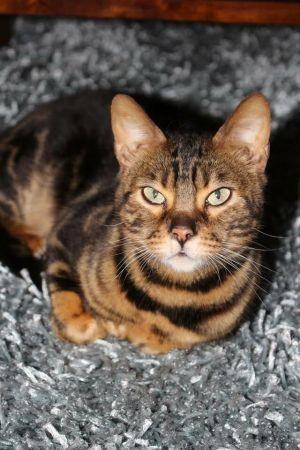bengal: (102, 85, 287, 285)
